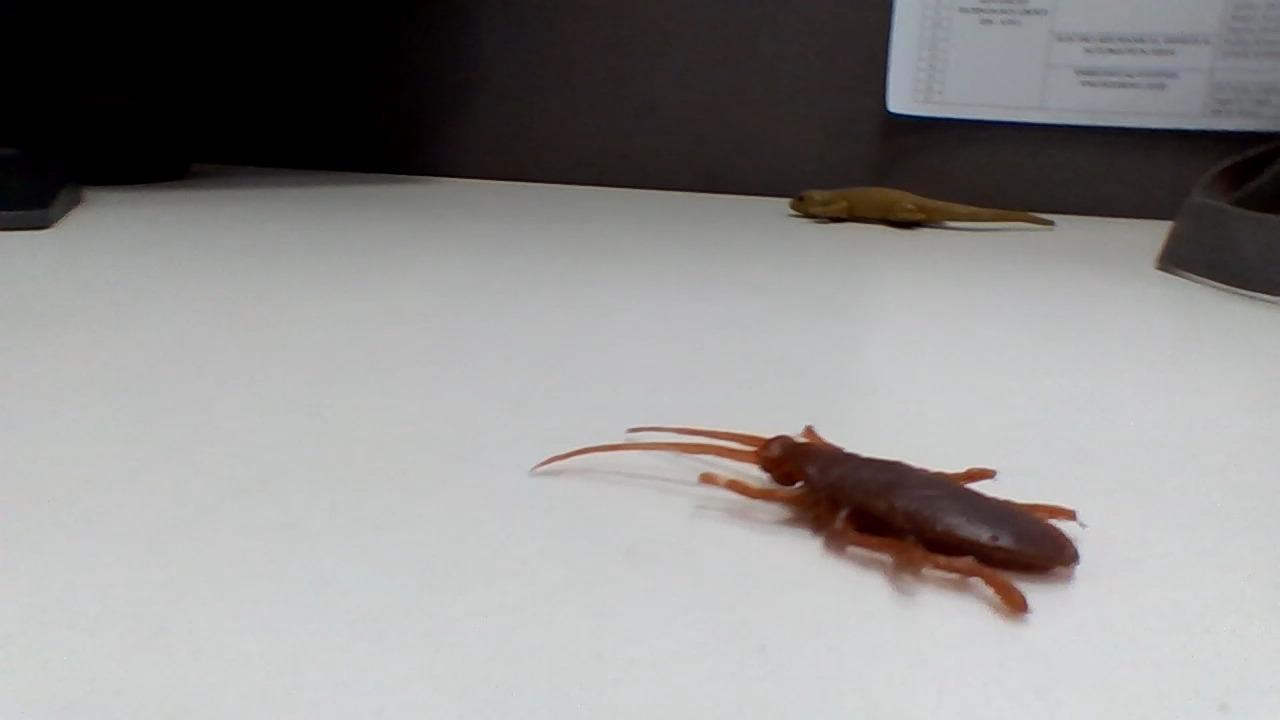cockroach: (542, 409, 1084, 617)
lizard: (787, 173, 1056, 232)
